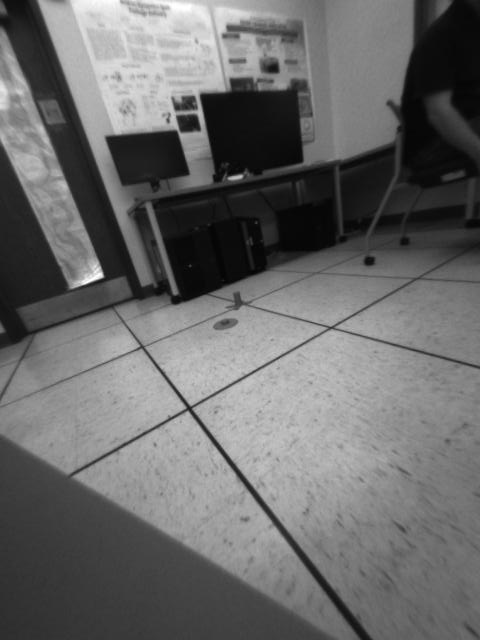X: (226, 291, 253, 310)
